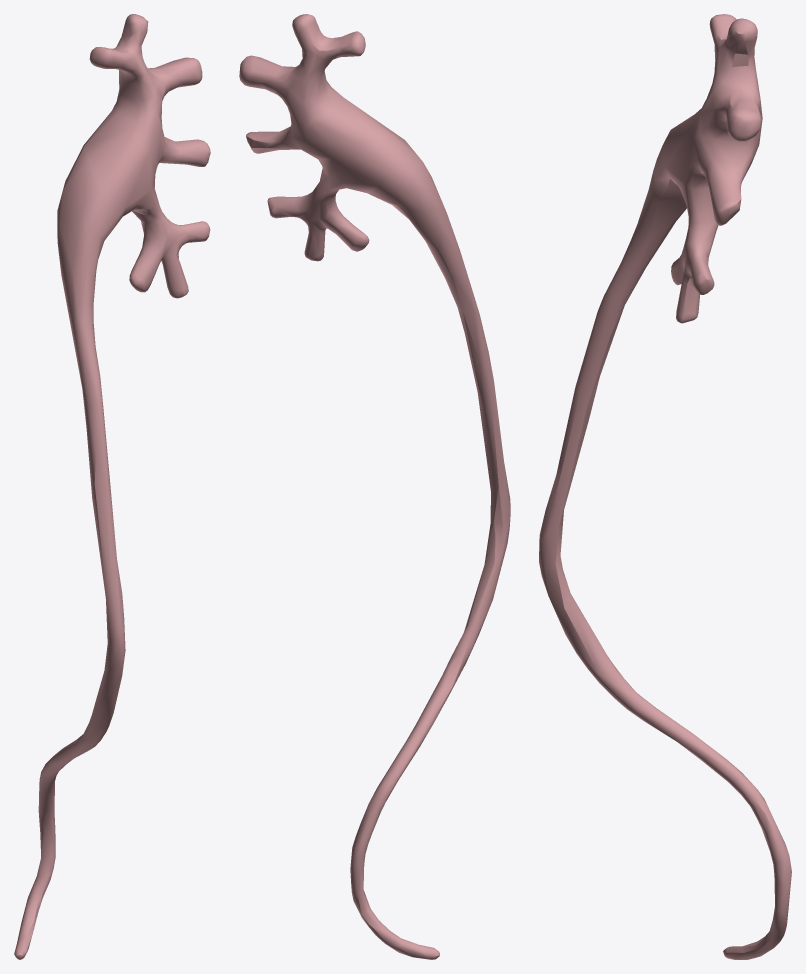
The model's file is fma15572_fj3144.glb.
3 renders of one model, left to right at view 1: azimuth 30°, elevation 25°; view 2: azimuth 150°, elevation 25°; view 3: azimuth 270°, elevation 25°, orthographic. The views are drawn at different scales.
Parts seen in each view (by area): view 1: FMA15572_FJ3144; view 2: FMA15572_FJ3144; view 3: FMA15572_FJ3144.
Part boxes in pixels (<box>): FMA15572_FJ3144: <box>14,14,210,959</box>; FMA15572_FJ3144: <box>239,14,510,959</box>; FMA15572_FJ3144: <box>539,14,791,959</box>.
Bounding box in the file's own units: 0.0561 × 0.2545 × 0.0581.
